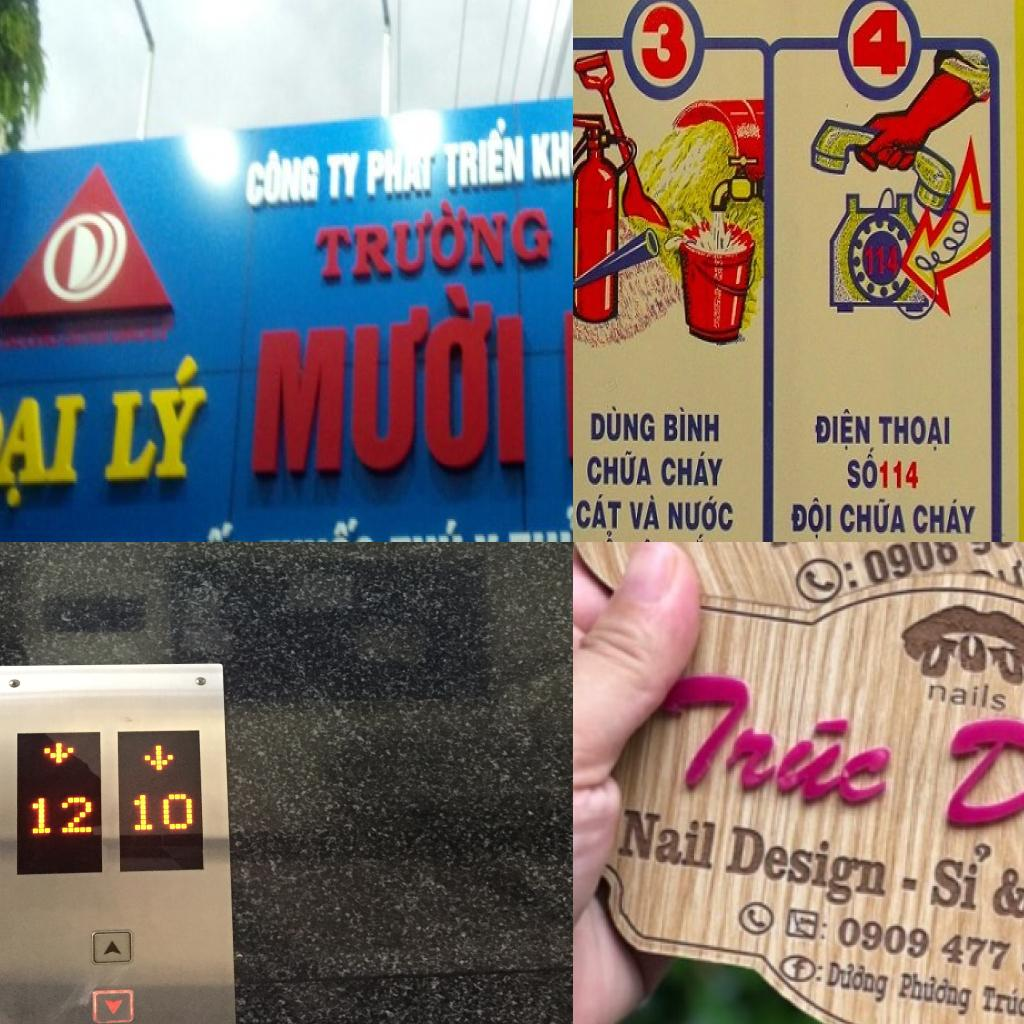text: (252, 276, 528, 483), (634, 662, 912, 825), (313, 189, 553, 284), (927, 711, 1024, 918), (721, 819, 897, 916), (102, 352, 218, 485), (833, 911, 1024, 986), (0, 393, 88, 513), (858, 542, 1024, 594), (612, 802, 726, 876), (442, 115, 528, 193), (926, 838, 1000, 920), (844, 0, 911, 88), (244, 147, 322, 210), (639, 0, 692, 89), (897, 968, 976, 1020), (921, 676, 1016, 716), (365, 148, 438, 198), (876, 412, 953, 456), (824, 960, 894, 1008), (665, 490, 736, 535), (587, 404, 659, 448), (812, 406, 874, 457), (257, 517, 383, 542), (25, 792, 97, 834), (837, 496, 908, 538), (659, 448, 727, 491), (912, 498, 978, 540), (586, 448, 655, 488), (660, 404, 722, 447), (987, 860, 1024, 930), (506, 504, 573, 542), (530, 128, 573, 181), (789, 493, 835, 541), (384, 517, 468, 542), (574, 492, 624, 534), (991, 542, 1024, 597), (326, 153, 362, 202), (172, 521, 256, 542), (845, 442, 880, 492), (878, 456, 921, 494), (628, 491, 664, 535), (673, 530, 724, 542), (584, 527, 620, 542)
